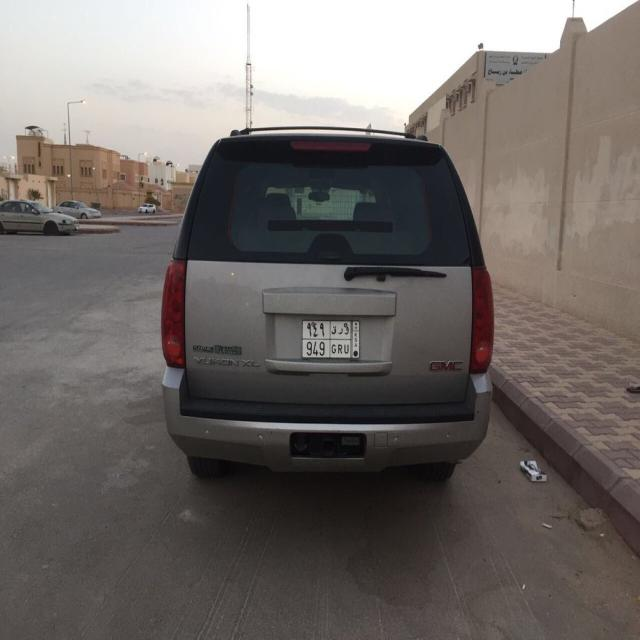license_plate: (301, 319, 360, 360)
